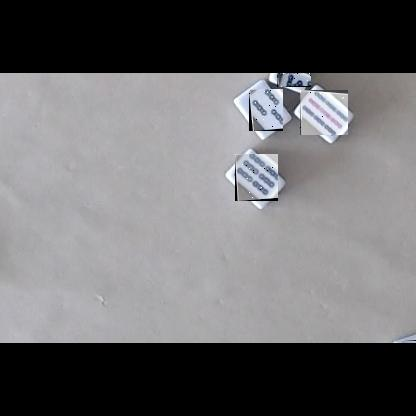3s: (249, 89, 283, 131)
4s: (402, 340, 416, 343)
6s: (235, 154, 278, 201)
8s: (277, 73, 311, 87)
9s: (300, 90, 348, 135)
